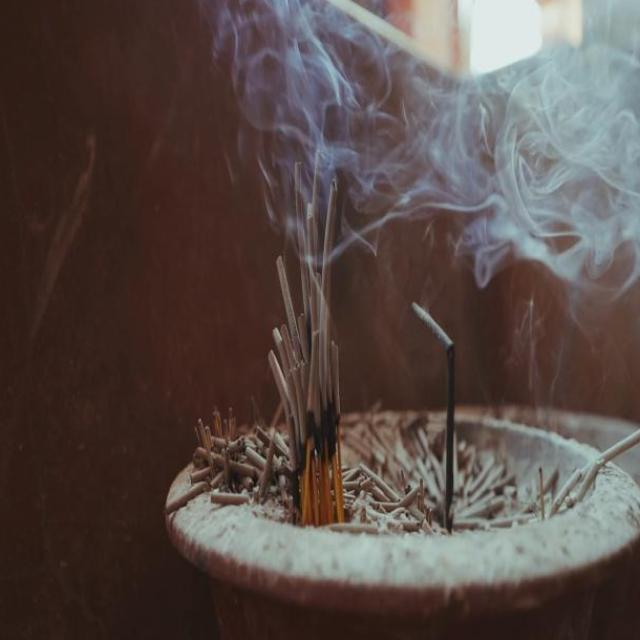fire: (185, 0, 640, 297)
